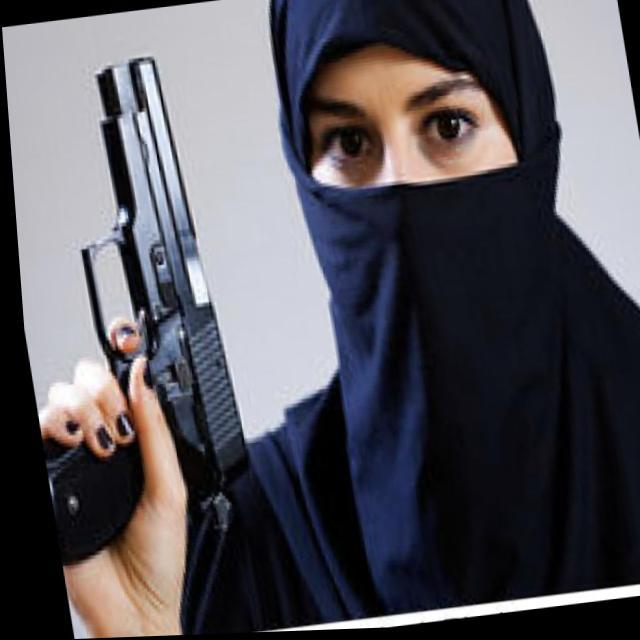weapon: (3, 44, 261, 573)
